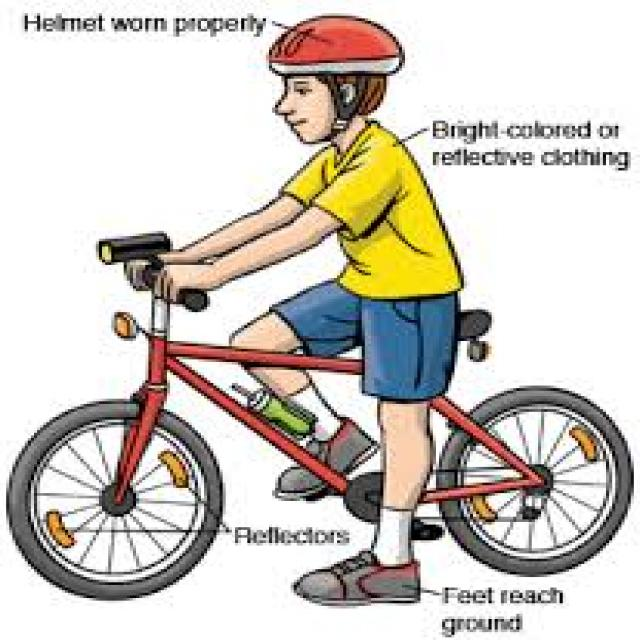Safety-Helmet: (257, 8, 408, 84)
